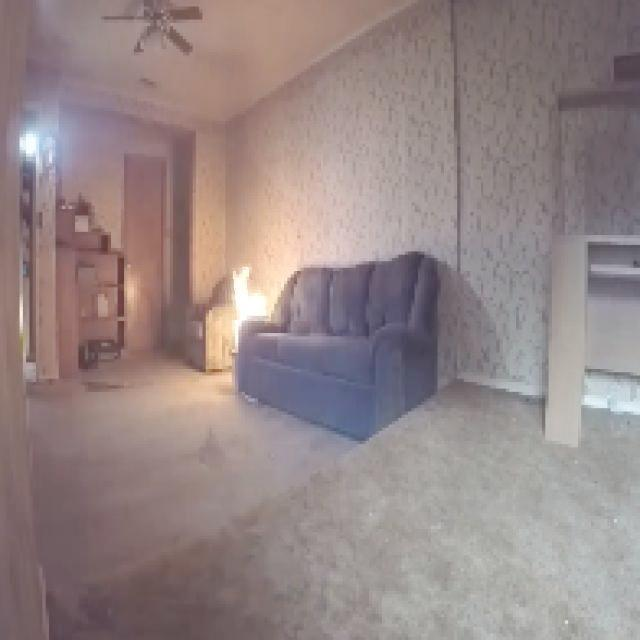smoke: (231, 259, 269, 319)
